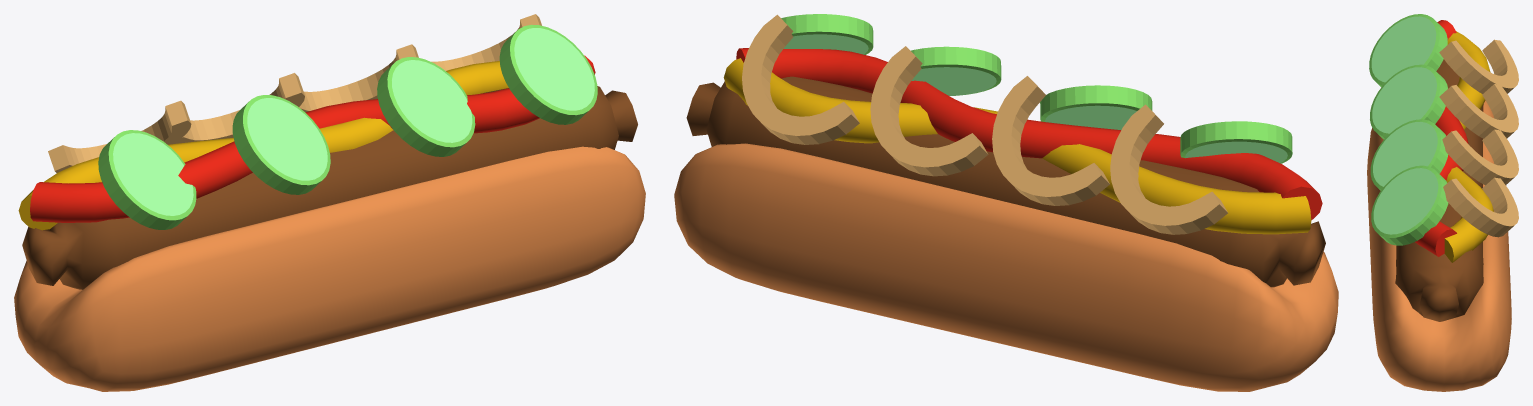
File: NEW_Single_Hot_Dog_with_all_the_toppings.fbx
3 renders of one model, left to right at view 1: azimuth 30°, elevation 25°; view 2: azimuth 150°, elevation 25°; view 3: azimuth 270°, elevation 25°, orthographic. The views are drawn at different scales.
Parts seen in each view (by area): view 1: Single Bun, Pickles.008, Single Hot Dog, BezierCurve.001, Onions.004, BezierCurve; view 2: Single Bun, Onions.004, Single Hot Dog, Pickles.008, BezierCurve.001, BezierCurve; view 3: Pickles.008, Single Bun, Onions.004, Single Hot Dog, BezierCurve, BezierCurve.001.
Part boxes in pixels (x1,y1,x2,y2): Single Bun: (14,146,645,391); Pickles.008: (98,24,597,229); Single Hot Dog: (22,86,637,289); BezierCurve.001: (30,55,595,222); Onions.004: (48,14,541,172); BezierCurve: (18,61,508,230); Single Bun: (674,143,1338,391); Onions.004: (742,14,1227,234); Single Hot Dog: (686,76,1325,287); Pickles.008: (781,14,1292,163); BezierCurve.001: (736,48,1322,220); BezierCurve: (723,58,1311,234); Pickles.008: (1369,14,1448,245); Single Bun: (1367,100,1511,391); Onions.004: (1439,39,1518,237); Single Hot Dog: (1395,59,1483,321); BezierCurve: (1444,31,1493,262); BezierCurve.001: (1415,20,1468,256).
Size of the model in its own units: 353 by 140 by 96.48.
